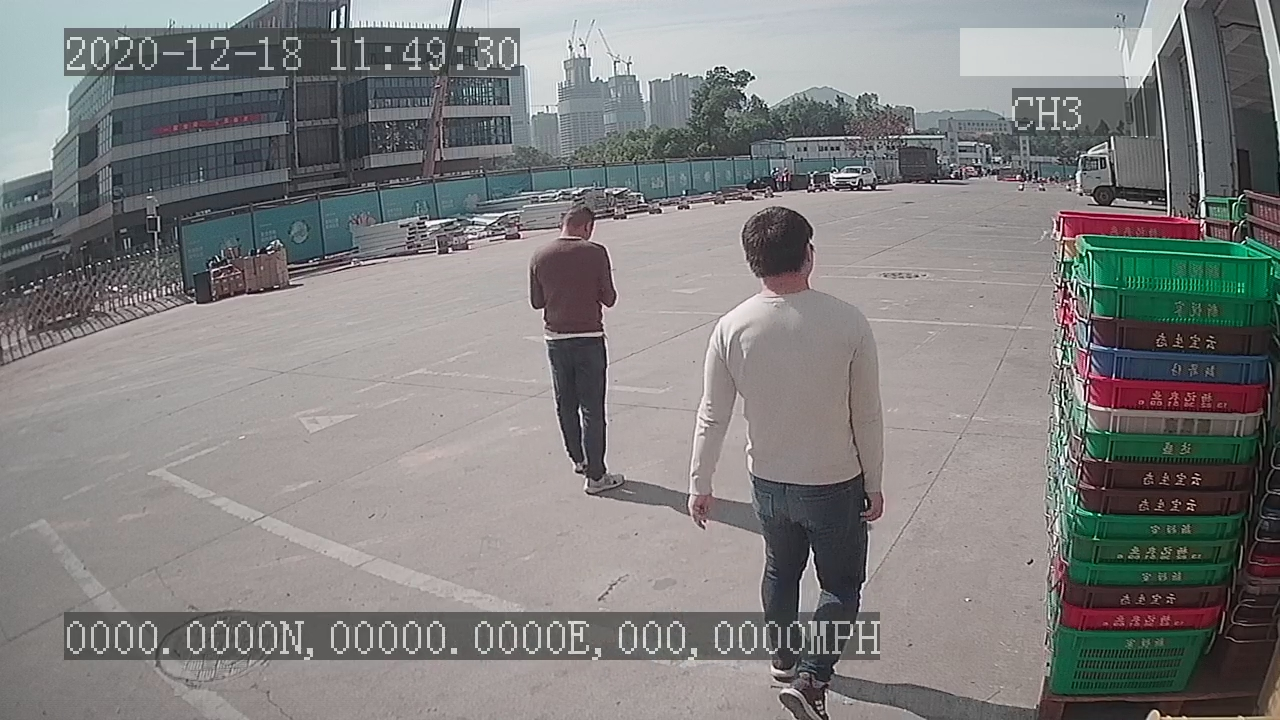person: (524, 204, 631, 501)
